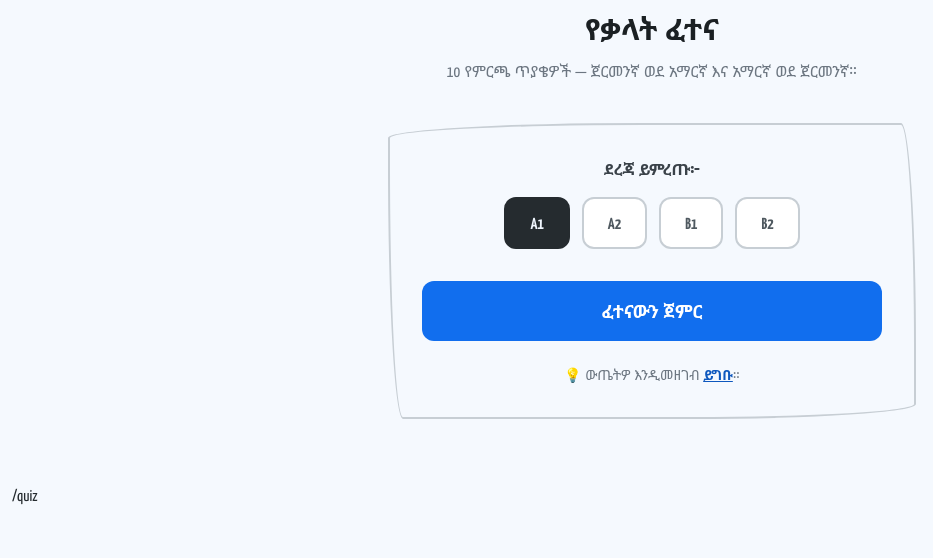
Quiz › shows an error and returns to setup when the quiz cannot load
The image size is (933, 558).
Click the button "A2" at (615, 223), box [582, 197, 647, 249]
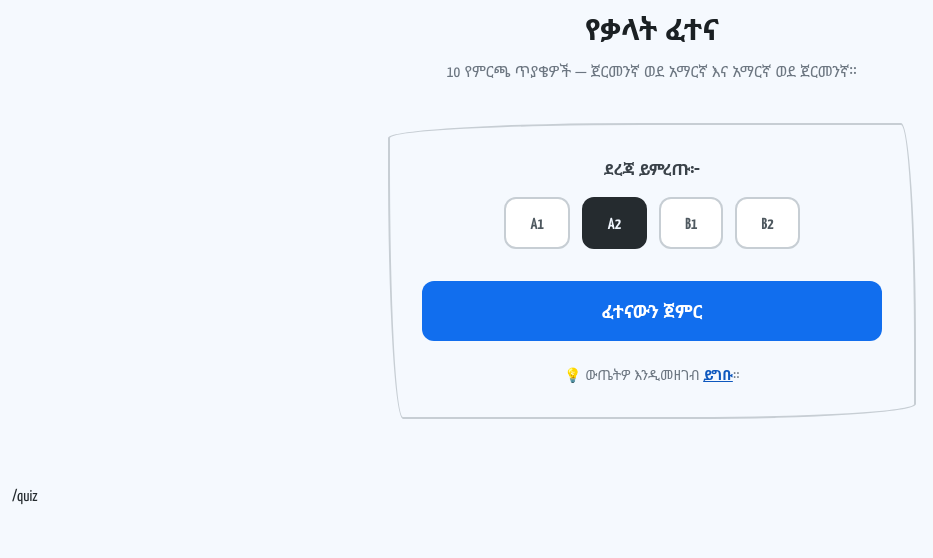
Click the button "ፈተናውን ጀምር" at (652, 311), box [422, 281, 882, 341]
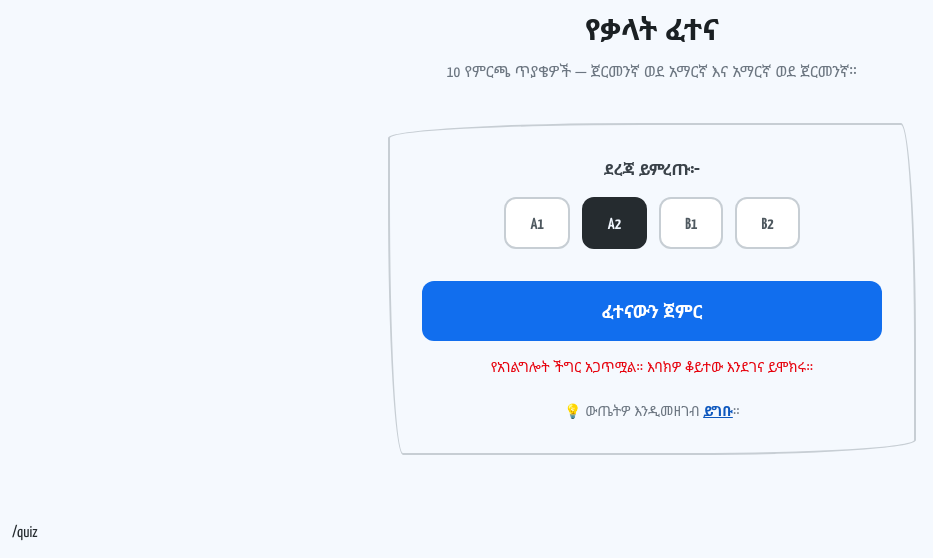
Expected: the text "የአገልግሎት ችግር አጋጥሟል። እባክዎ ቆይተው እንደገና ይሞክሩ።" is shown, [491, 357, 813, 376]
